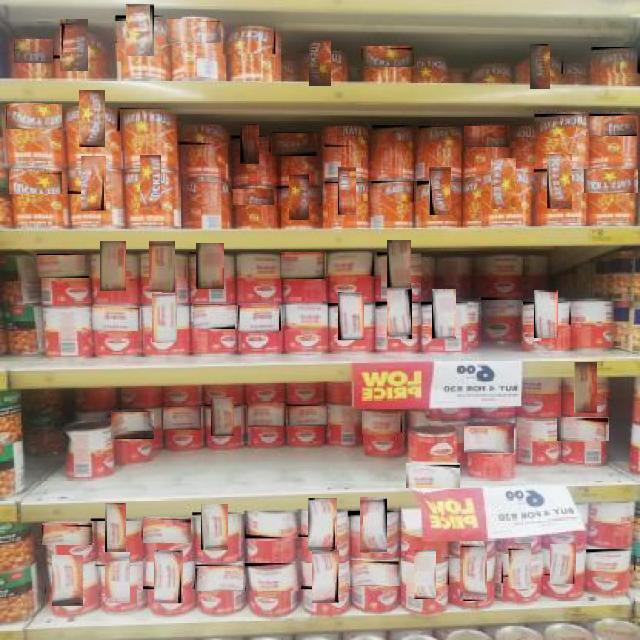Beans: (222, 25, 276, 56), (243, 511, 298, 540), (154, 549, 183, 604), (243, 563, 298, 592), (460, 542, 487, 601), (53, 554, 83, 606), (78, 90, 105, 147), (308, 498, 337, 551), (360, 498, 387, 553), (5, 103, 62, 129), (126, 4, 154, 56), (312, 550, 339, 603), (405, 462, 460, 488), (118, 108, 173, 134), (60, 20, 88, 71), (349, 559, 401, 586), (463, 426, 514, 453), (148, 241, 175, 292), (547, 154, 572, 209), (81, 156, 106, 211), (194, 565, 245, 591), (104, 552, 130, 603), (100, 240, 126, 291), (386, 288, 412, 339), (325, 252, 374, 279), (583, 169, 638, 193), (35, 254, 90, 278), (166, 19, 221, 43), (8, 170, 62, 194), (142, 517, 191, 543), (476, 253, 525, 279), (91, 305, 140, 331), (238, 302, 279, 333), (201, 503, 228, 550), (592, 48, 639, 75), (371, 126, 418, 153), (279, 252, 326, 279), (197, 242, 224, 289), (557, 417, 609, 441), (533, 114, 585, 138), (492, 157, 516, 209), (338, 292, 364, 340), (432, 289, 456, 339), (152, 294, 177, 342), (281, 305, 327, 331), (110, 412, 154, 439), (41, 522, 92, 545), (585, 550, 636, 573), (534, 290, 558, 338), (575, 361, 597, 413), (177, 125, 231, 146), (417, 127, 464, 151), (413, 550, 436, 599), (140, 156, 161, 209), (507, 543, 531, 589), (271, 132, 317, 156), (388, 240, 411, 288), (237, 252, 283, 276), (361, 46, 413, 67), (106, 503, 126, 556), (192, 305, 236, 329), (588, 115, 637, 136), (460, 126, 509, 147), (430, 166, 451, 215), (551, 543, 576, 584), (371, 180, 415, 203), (310, 39, 331, 86), (323, 128, 369, 149), (13, 39, 53, 63), (288, 175, 309, 220), (362, 411, 403, 434), (530, 43, 550, 89), (246, 403, 284, 427), (163, 406, 201, 430), (285, 405, 328, 426), (479, 298, 522, 319), (212, 396, 234, 436), (338, 167, 356, 215), (240, 123, 259, 164), (230, 188, 274, 205)
